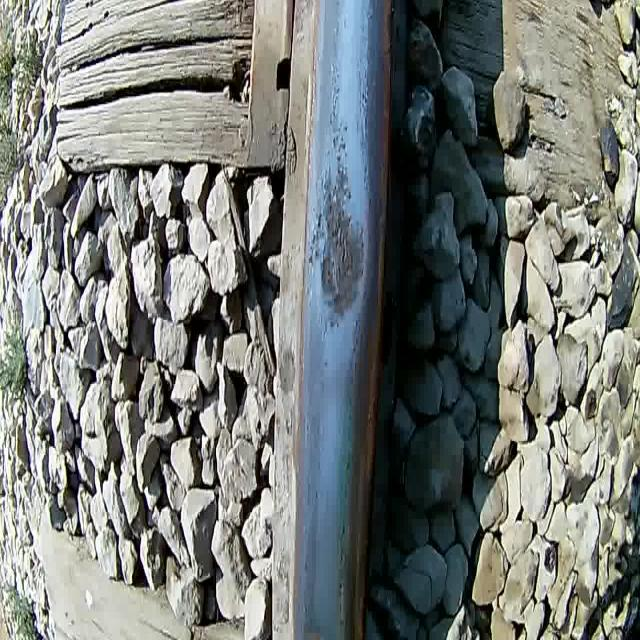Cracks: (355, 62, 373, 146)
Spallings: (314, 185, 357, 292)
Squats: (304, 64, 370, 335)
